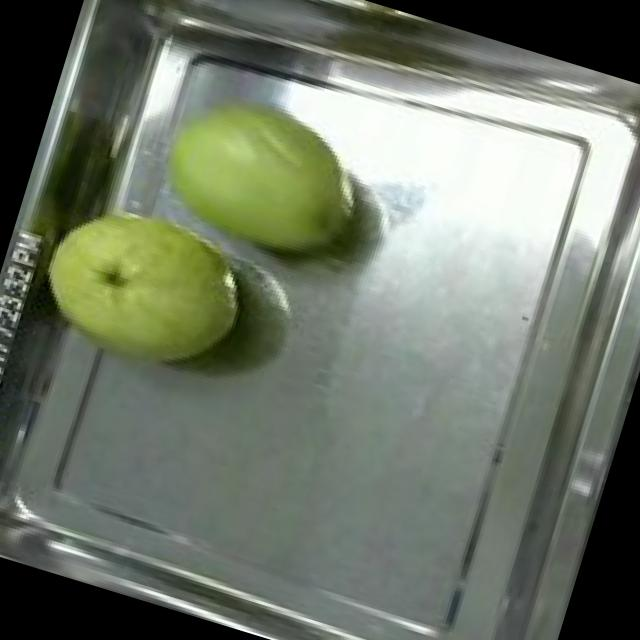Fruit: (13, 168, 274, 400), (130, 63, 390, 295)
